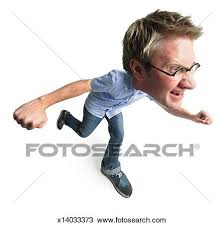white_male: (138, 30, 197, 106)
